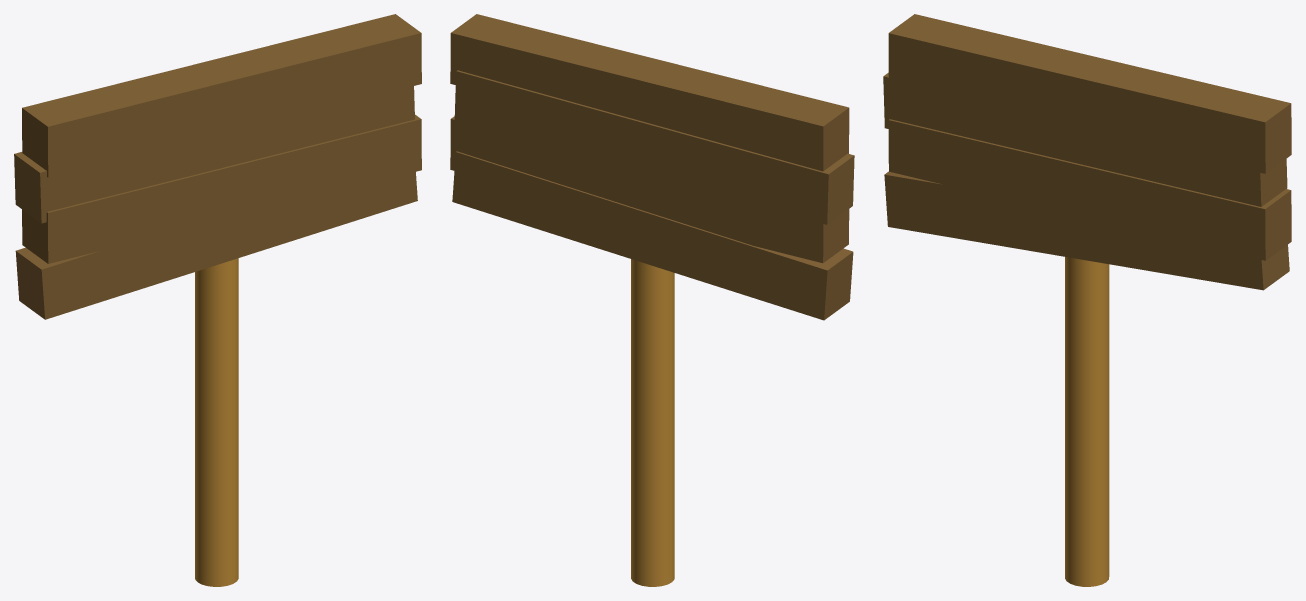
Rendered from placeholdersignpost.fbx.
3 renders of one model, left to right at view 1: azimuth 30°, elevation 25°; view 2: azimuth 150°, elevation 25°; view 3: azimuth 330°, elevation 25°, orthographic.
Parts seen in each view (by area): view 1: pCube2; view 2: pCube2; view 3: pCube2.
Boxes of the visible parts, box(x1,y1,x2,y2) form: pCube2: box(14, 14, 421, 586); pCube2: box(450, 14, 854, 586); pCube2: box(883, 14, 1291, 586).
Size of the model in its own units: 82.81 by 106 by 10.28.
